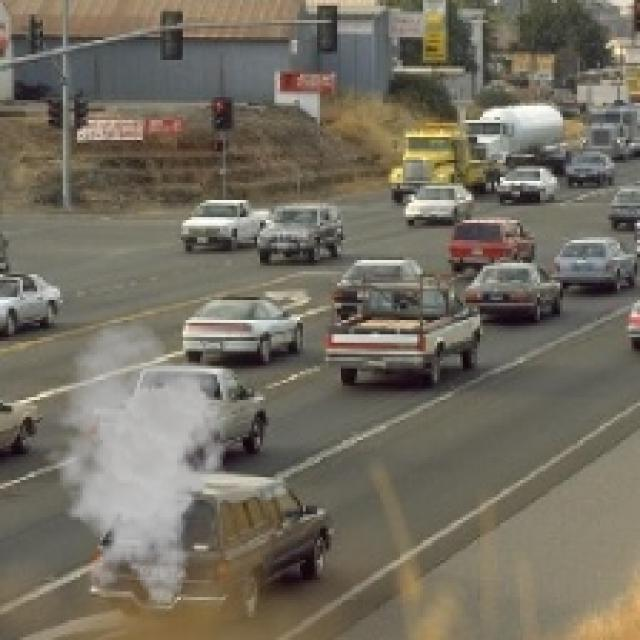Smoke: (34, 320, 234, 603)
